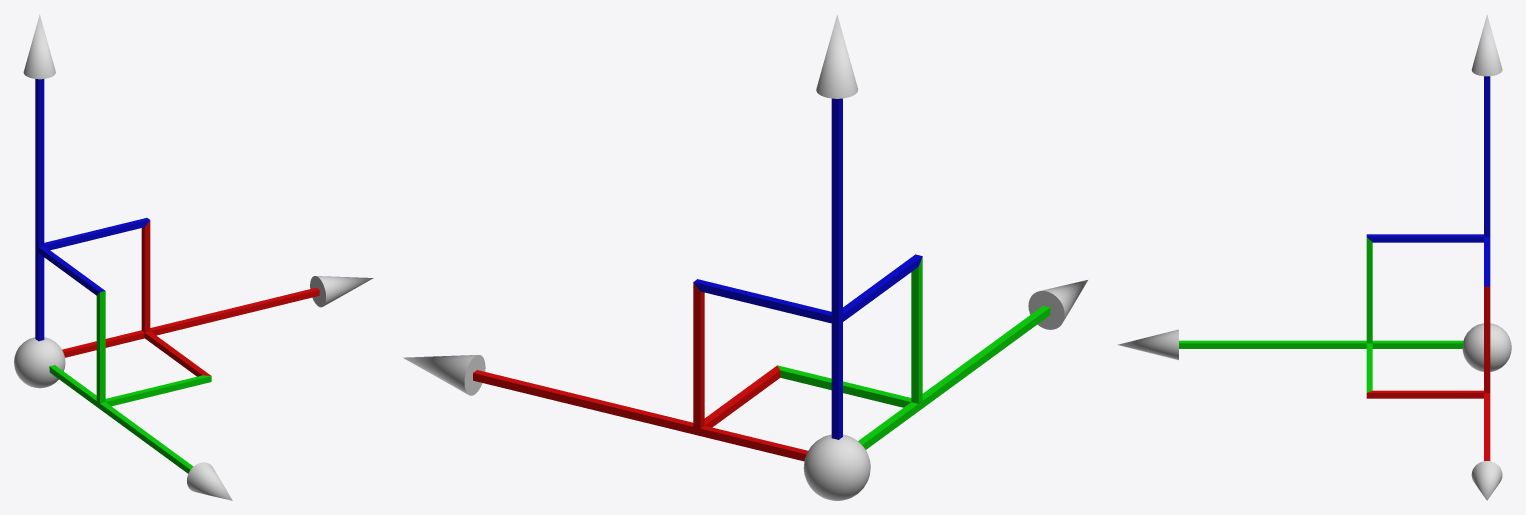
File: SM_Gizmo_Location.fbx
3 renders of one model, left to right at view 1: azimuth 30°, elevation 25°; view 2: azimuth 150°, elevation 25°; view 3: azimuth 270°, elevation 25°, orthographic. The views are drawn at different scales.
Visible parts, largest first — view 1: Cube, Sphere, Cylinder, Cylinder.001, Cylinder.002; view 2: Cube, Sphere, Cylinder, Cylinder.001, Cylinder.002; view 3: Cube, Sphere, Cylinder, Cylinder.002, Cylinder.001.
Part boxes in pixels (box(x1,y1,x2,y2)): Cube: box(35, 79, 319, 473); Sphere: box(14, 337, 65, 388); Cylinder: box(23, 14, 55, 79); Cylinder.001: box(310, 276, 373, 307); Cylinder.002: box(187, 462, 232, 500); Cube: box(473, 98, 1050, 461); Sphere: box(803, 434, 870, 500); Cylinder: box(816, 14, 858, 98); Cylinder.001: box(403, 355, 485, 395); Cylinder.002: box(1028, 280, 1087, 329); Cube: box(1179, 76, 1490, 460); Sphere: box(1462, 323, 1511, 371); Cylinder: box(1471, 14, 1502, 76); Cylinder.002: box(1117, 329, 1178, 360); Cylinder.001: box(1471, 461, 1502, 500).
Bounding box in the file's own units: 79.81 × 79.71 × 79.45.
